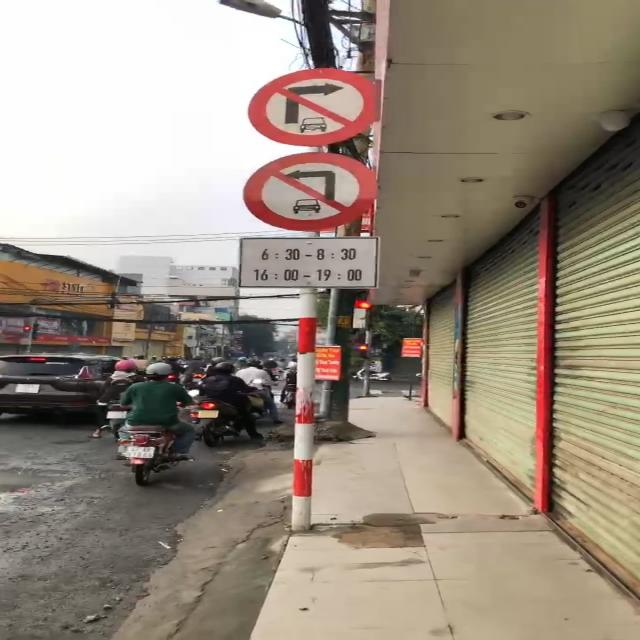Bien bao cam xe o to re phai: (243, 62, 393, 149)
Bien bao cam xe o to re trai: (237, 148, 389, 232)
